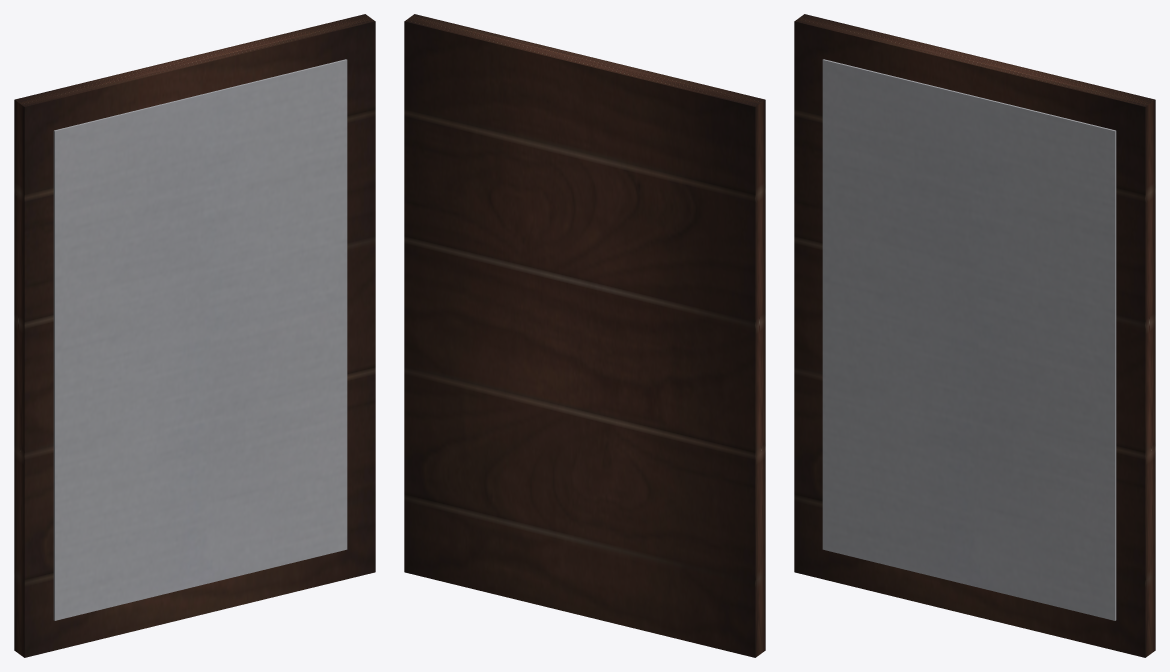
File: Mirror.fbx
The picture shows the model from 3 angles, left to right: view 1: azimuth 30°, elevation 25°; view 2: azimuth 150°, elevation 25°; view 3: azimuth 330°, elevation 25°; orthographic projection.
Parts seen in each view (by area): view 1: Mirror; view 2: Mirror; view 3: Mirror.
Boxes of the visible parts, <box> form: Mirror: <box>14,14,375,657</box>; Mirror: <box>404,14,765,657</box>; Mirror: <box>794,14,1155,657</box>.
Bounding box in the file's own units: 0.6 × 0.9 × 0.033.
